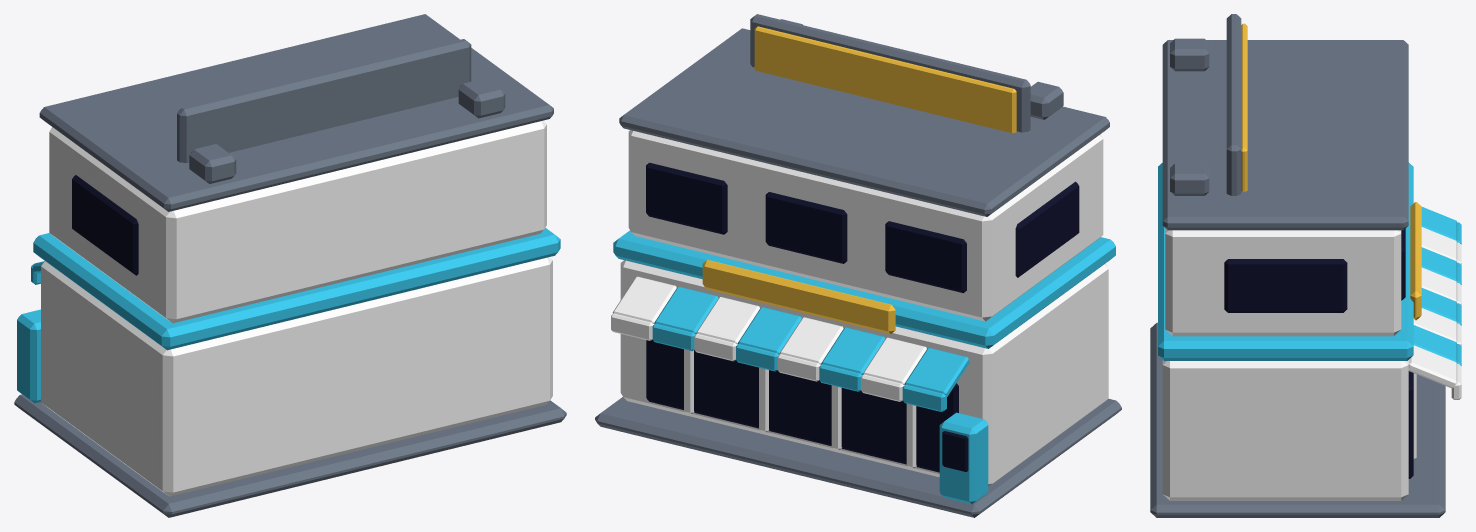
The model's file is Prop_hero_city_Shop.glb.
3 renders of one model, left to right at view 1: azimuth 30°, elevation 25°; view 2: azimuth 150°, elevation 25°; view 3: azimuth 270°, elevation 25°, orthographic. The views are drawn at different scales.
Parts seen in each view (by area): view 1: WallWhite_FFFFFF, StoneDark_6B7686, ZoneCyan_35C9F0, GlassInk_0D0F2B; view 2: WallWhite_FFFFFF, StoneDark_6B7686, GlassInk_0D0F2B, ZoneCyan_35C9F0, SignGold_FFC83D; view 3: StoneDark_6B7686, WallWhite_FFFFFF, ZoneCyan_35C9F0, GlassInk_0D0F2B, SignGold_FFC83D.
Boxes of the visible parts, x1=… form: WallWhite_FFFFFF: x1=41, y1=120, x2=552, y2=496; StoneDark_6B7686: x1=14, y1=14, x2=566, y2=517; ZoneCyan_35C9F0: x1=17, y1=228, x2=560, y2=403; GlassInk_0D0F2B: x1=72, y1=175, x2=138, y2=275; WallWhite_FFFFFF: x1=611, y1=130, x2=1108, y2=486; StoneDark_6B7686: x1=595, y1=14, x2=1121, y2=517; GlassInk_0D0F2B: x1=646, y1=162, x2=1079, y2=472; ZoneCyan_35C9F0: x1=613, y1=230, x2=1115, y2=504; SignGold_FFC83D: x1=702, y1=26, x2=1016, y2=333; StoneDark_6B7686: x1=1150, y1=14, x2=1445, y2=517; WallWhite_FFFFFF: x1=1162, y1=227, x2=1461, y2=500; ZoneCyan_35C9F0: x1=1158, y1=162, x2=1461, y2=365; GlassInk_0D0F2B: x1=1224, y1=229, x2=1413, y2=478; SignGold_FFC83D: x1=1241, y1=23, x2=1421, y2=320.
Size of the model in its own units: 18 by 15.6 by 12.65.
